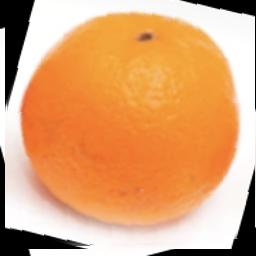Orange Fresh: (5, 0, 255, 249)
